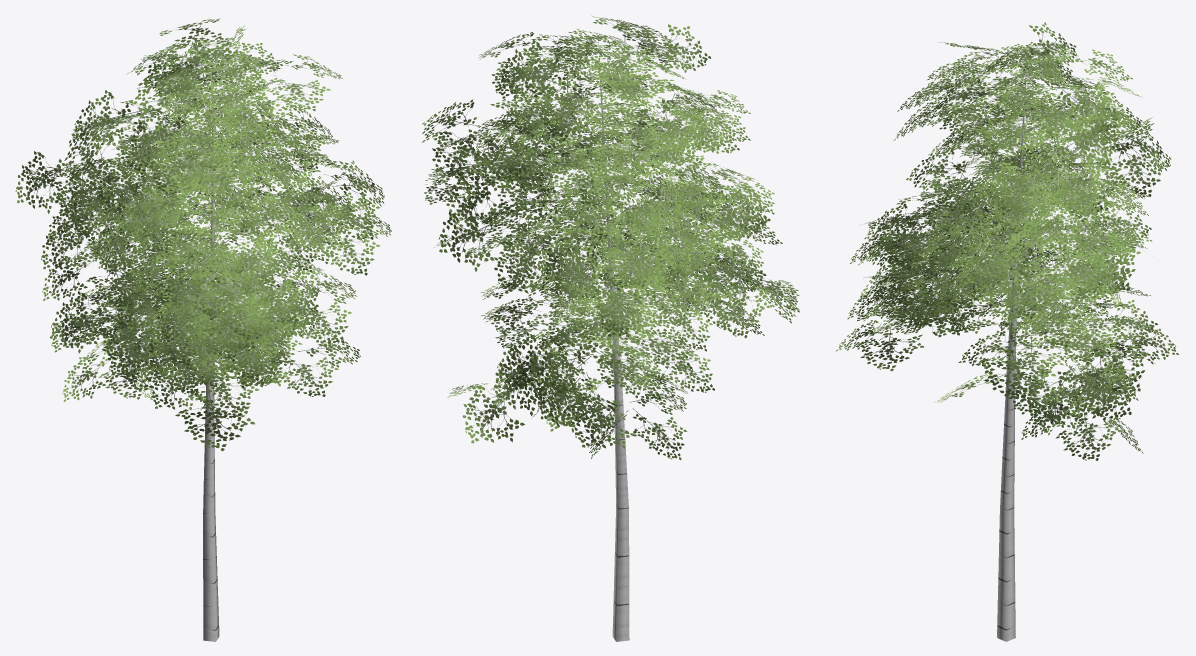
File: tree_Birch_LOD1.fbx
The picture shows the model from 3 angles, left to right: view 1: azimuth 30°, elevation 25°; view 2: azimuth 150°, elevation 25°; view 3: azimuth 270°, elevation 25°; orthographic projection. The views are drawn at different scales.
Visible parts, largest first — view 1: Birch_LOD1; view 2: Birch_LOD1; view 3: Birch_LOD1.
Boxes of the visible parts, x1,y1,x2,y2 form: Birch_LOD1: (15,18,391,641); Birch_LOD1: (422,15,799,641); Birch_LOD1: (836,22,1178,641).
Size of the model in its own units: 857 by 1396 by 736.
